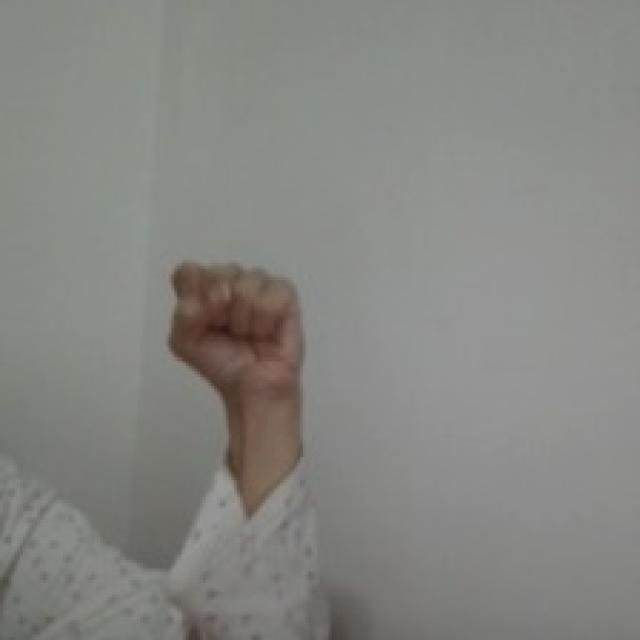yes: (162, 254, 311, 395)
